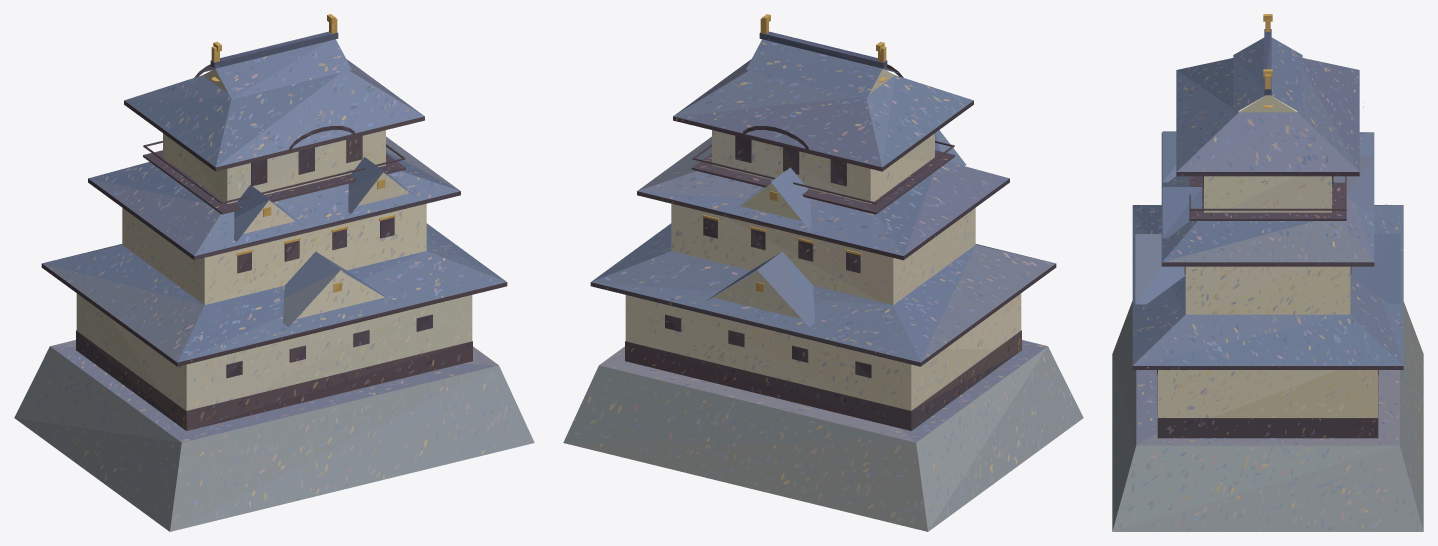
Rendered from HK_HikoneCastle.glb.
3 views of the same model, side by side, from view 1: azimuth 30°, elevation 25°; view 2: azimuth 150°, elevation 25°; view 3: azimuth 270°, elevation 25° (orthographic).
Visible parts, largest first — view 1: HK_HikoneCastle; view 2: HK_HikoneCastle; view 3: HK_HikoneCastle.
Boxes of the visible parts, <box> form: HK_HikoneCastle: <box>14,14,534,531</box>; HK_HikoneCastle: <box>563,14,1083,531</box>; HK_HikoneCastle: <box>1112,14,1423,531</box>.
Size of the model in its own units: 23 by 24.13 by 17.
